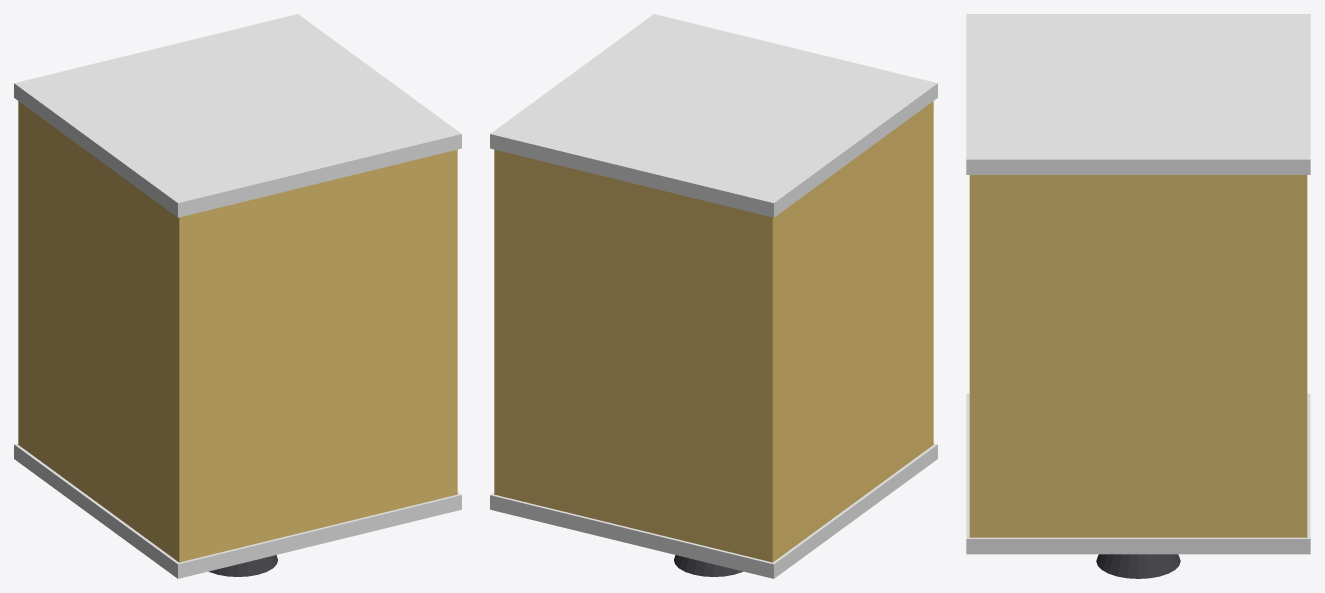
File: bus_small.fbx
3 renders of one model, left to right at view 1: azimuth 30°, elevation 25°; view 2: azimuth 150°, elevation 25°; view 3: azimuth 270°, elevation 25°, orthographic. The views are drawn at different scales.
Parts seen in each view (by area): view 1: bus_small; view 2: bus_small; view 3: bus_small.
Boxes of the visible parts, x1,y1,x2,y2 form: bus_small: [14, 14, 461, 578]; bus_small: [490, 14, 937, 578]; bus_small: [966, 14, 1310, 578].
Size of the model in its own units: 1.02 by 1.55 by 1.02.
